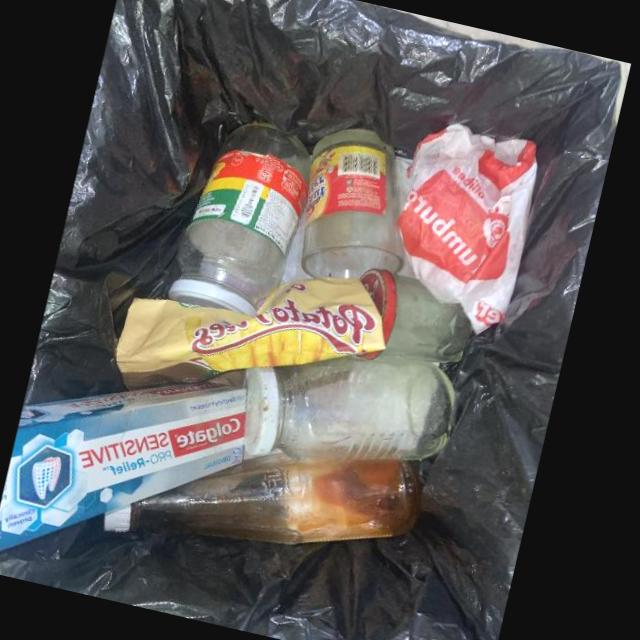bao_bi_thuc_pham: (115, 277, 386, 388)
carton: (0, 382, 247, 551)
chai_thuy_tinh: (104, 453, 422, 544), (168, 121, 311, 316), (244, 355, 452, 459), (301, 127, 404, 278), (356, 268, 471, 363)
giay: (397, 122, 537, 333)
